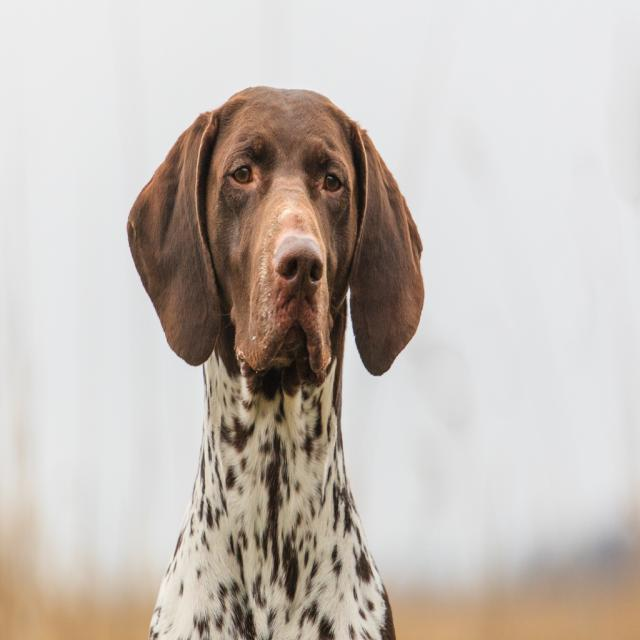Dog: (125, 84, 424, 639)
